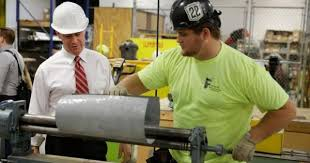hard hat: (168, 1, 222, 30), (51, 1, 89, 34)
